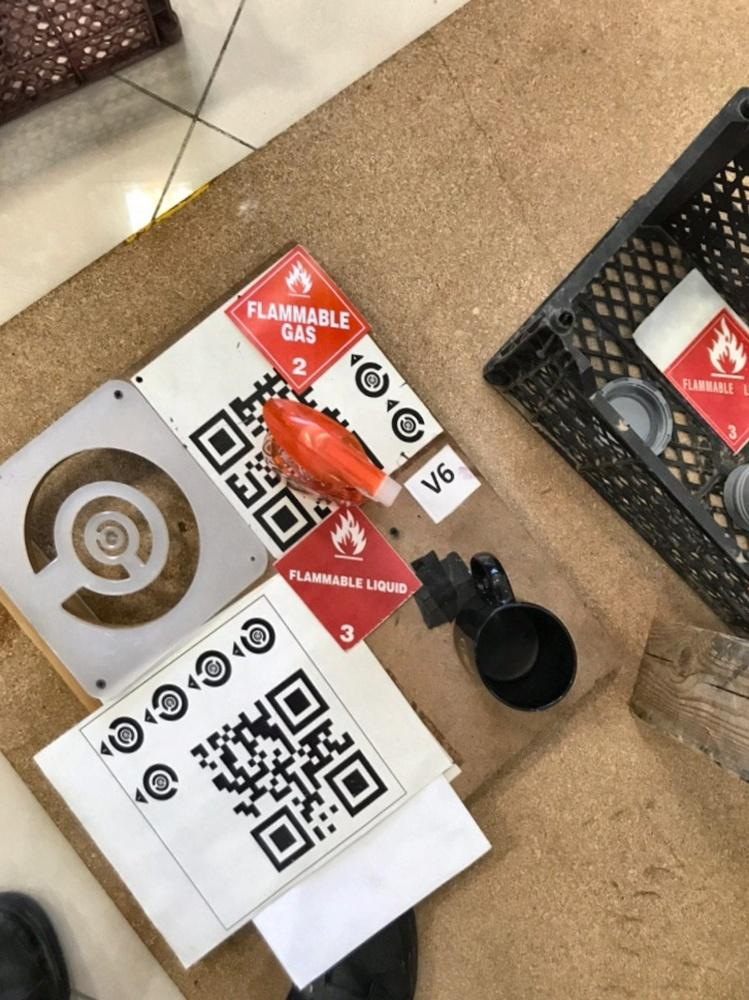flammable: (270, 500, 423, 661), (225, 240, 375, 399), (658, 300, 749, 450)
